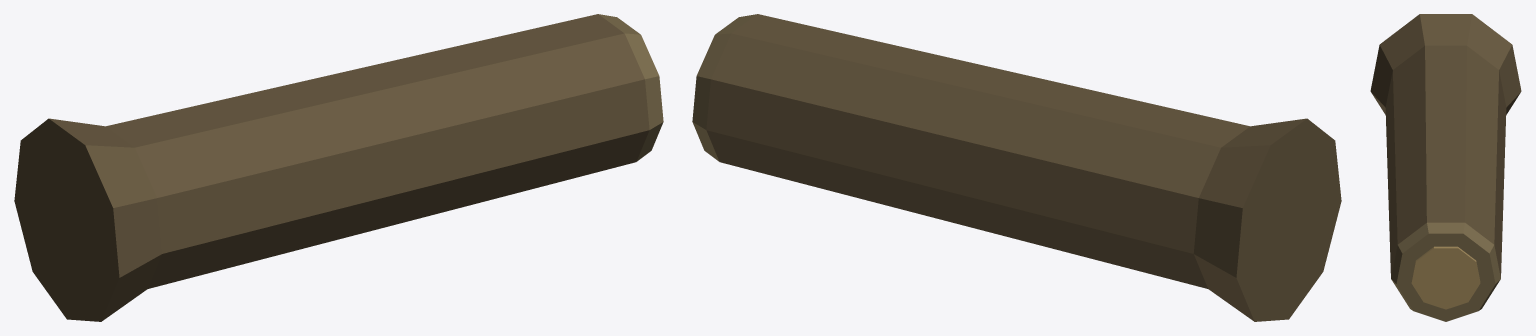
Rendered from fallen-log.glb.
3 views of the same model, side by side, from view 1: azimuth 30°, elevation 25°; view 2: azimuth 150°, elevation 25°; view 3: azimuth 270°, elevation 25° (orthographic). The views are drawn at different scales.
Parts seen in each view (by area): view 1: fallen-log__body; view 2: fallen-log__body; view 3: fallen-log__body.
Part boxes in pixels (left/top/right/bottom): fallen-log__body: left=14, top=14, right=663, bottom=321; fallen-log__body: left=692, top=14, right=1341, bottom=321; fallen-log__body: left=1370, top=14, right=1521, bottom=321.
Bounding box in the file's own units: 1.92 × 0.6062 × 0.6155.
